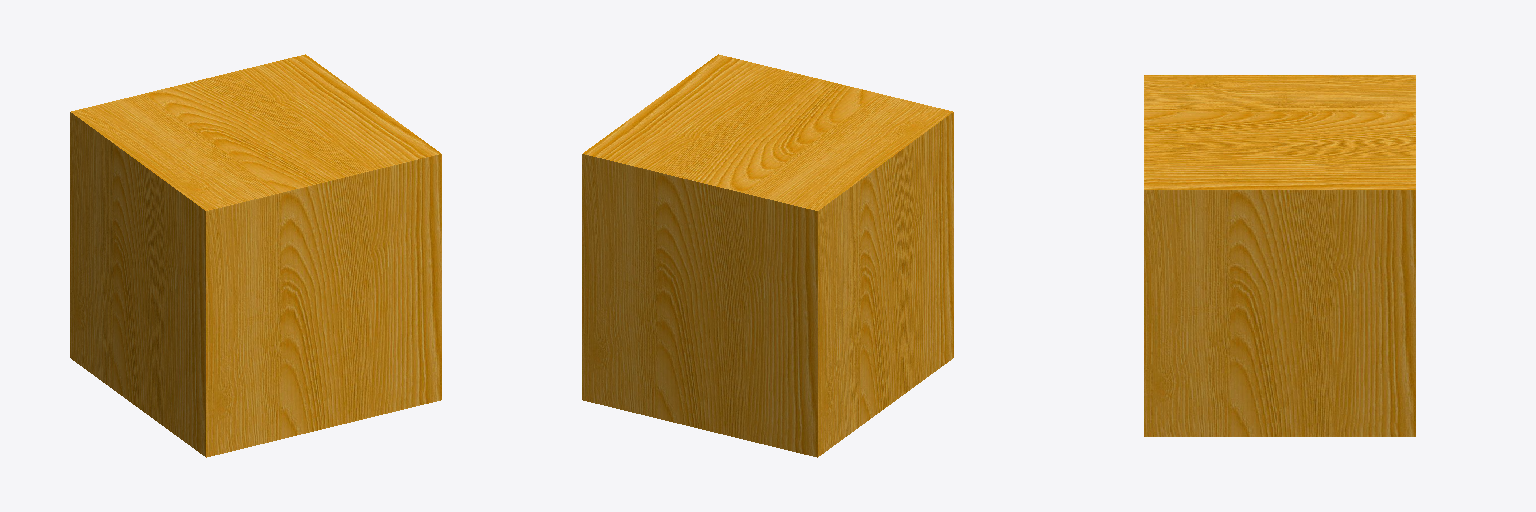
The picture shows the model from 3 angles: view 1: azimuth 30°, elevation 25°; view 2: azimuth 150°, elevation 25°; view 3: azimuth 270°, elevation 25°; orthographic projection.
Parts seen in each view (by area): view 1: table; view 2: table; view 3: table.
Boxes of the visible parts, x1,y1,x2,y2 form: table: [70, 54, 441, 457]; table: [582, 54, 953, 457]; table: [1144, 75, 1415, 436].
Bounding box in the file's own units: 1 × 1 × 1.
1 materials, 1 textured.